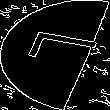L_E: (11, 33, 99, 77)
